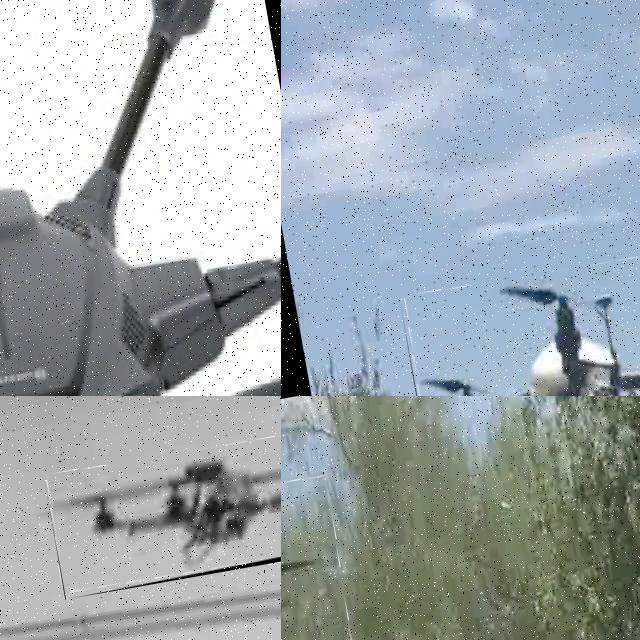0: (43, 430, 281, 599), (398, 244, 640, 396), (281, 474, 360, 640)
drone: (0, 0, 281, 396)
